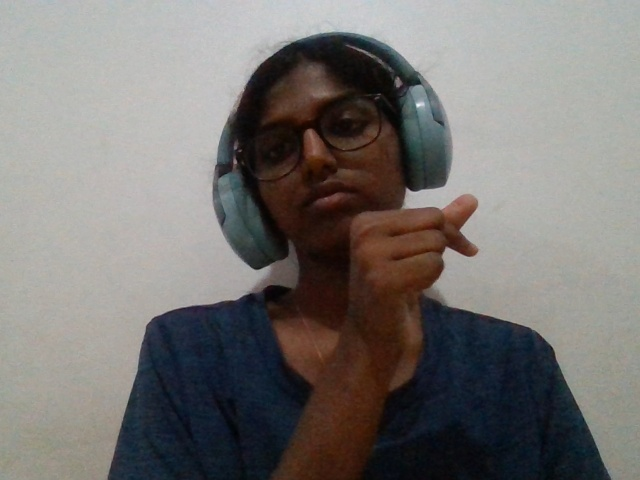G: (322, 177, 501, 393)
